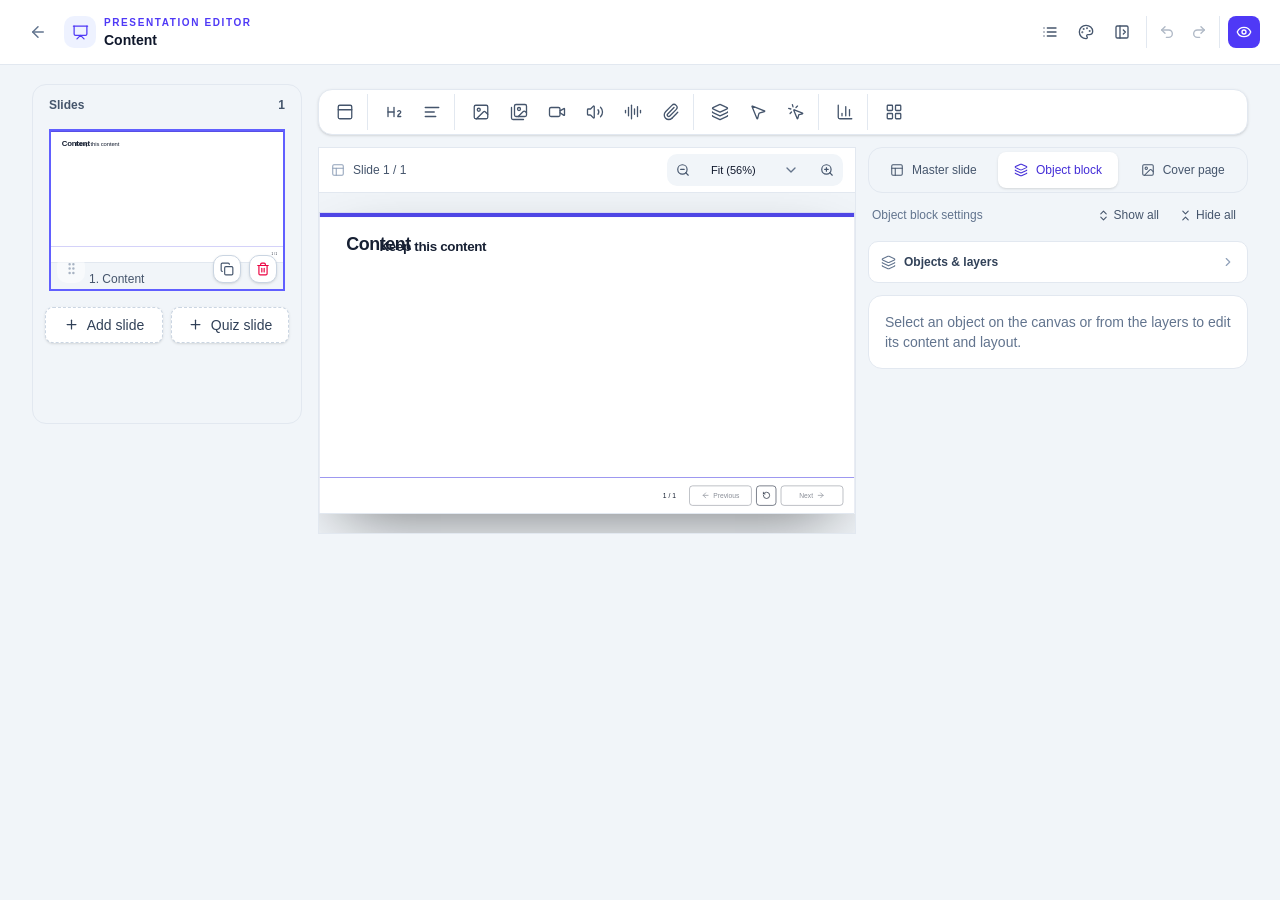
Scenario: presentation inspector tabs › switches settings panels and opens Object block when selecting a canvas object
Click the tab "Master slide" at (933, 170), box [873,152,994,188]
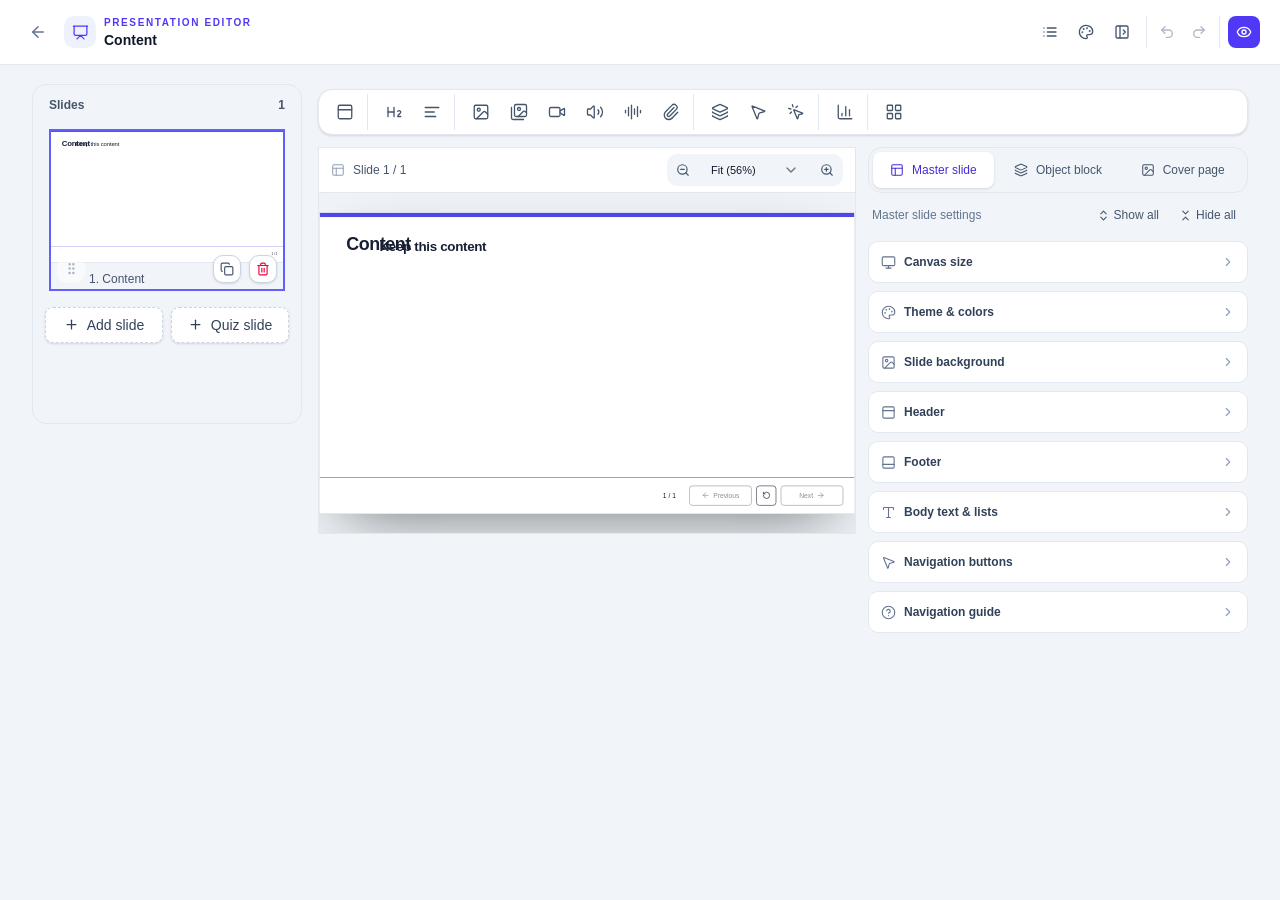
Press the mouse on the element showing "Keep this content" at (433, 247), box [380,239,486,254]
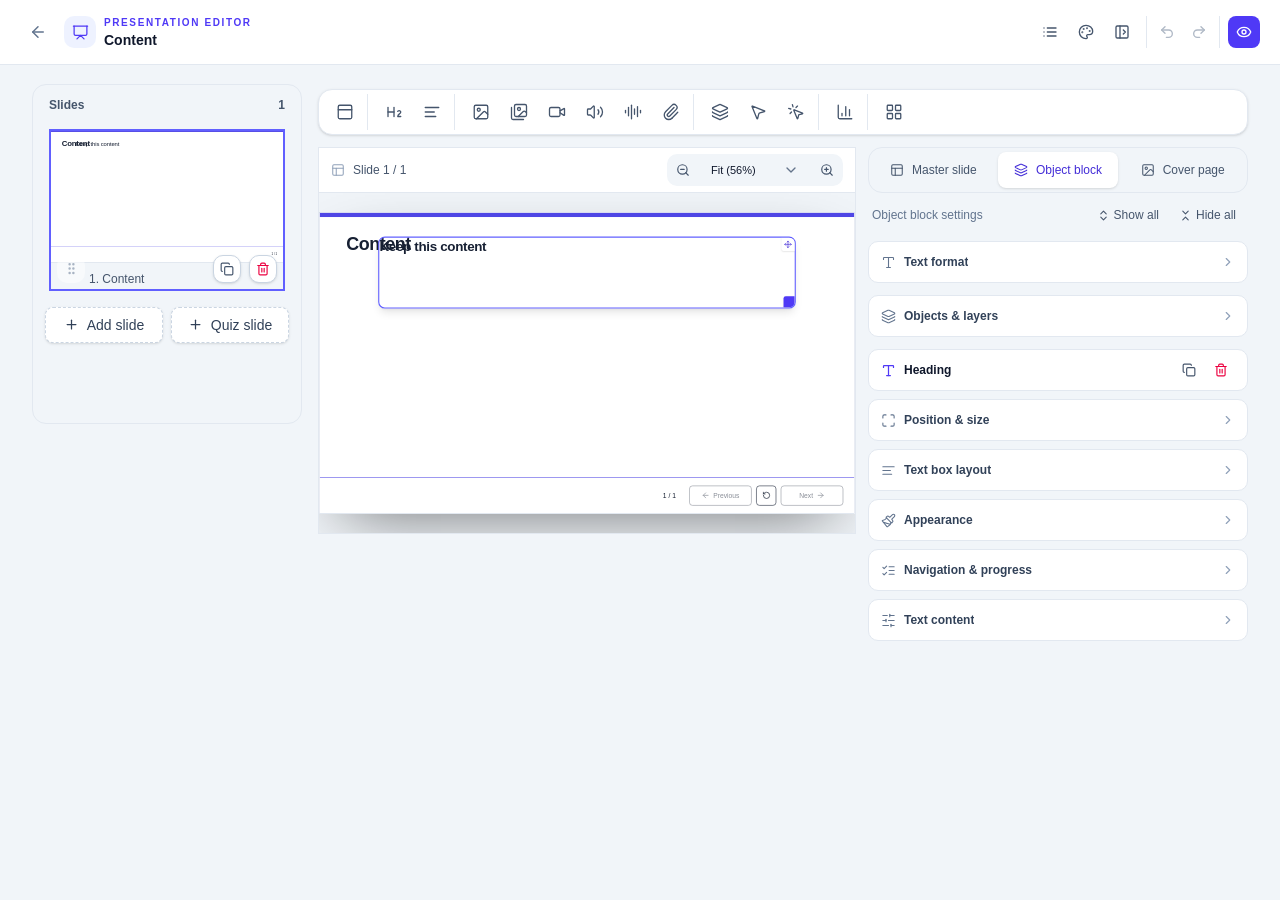
Check: the button named "Delete object" is shown, box [1207,356,1235,384]
Click the tab "Master slide" at (933, 170), box [873,152,994,188]
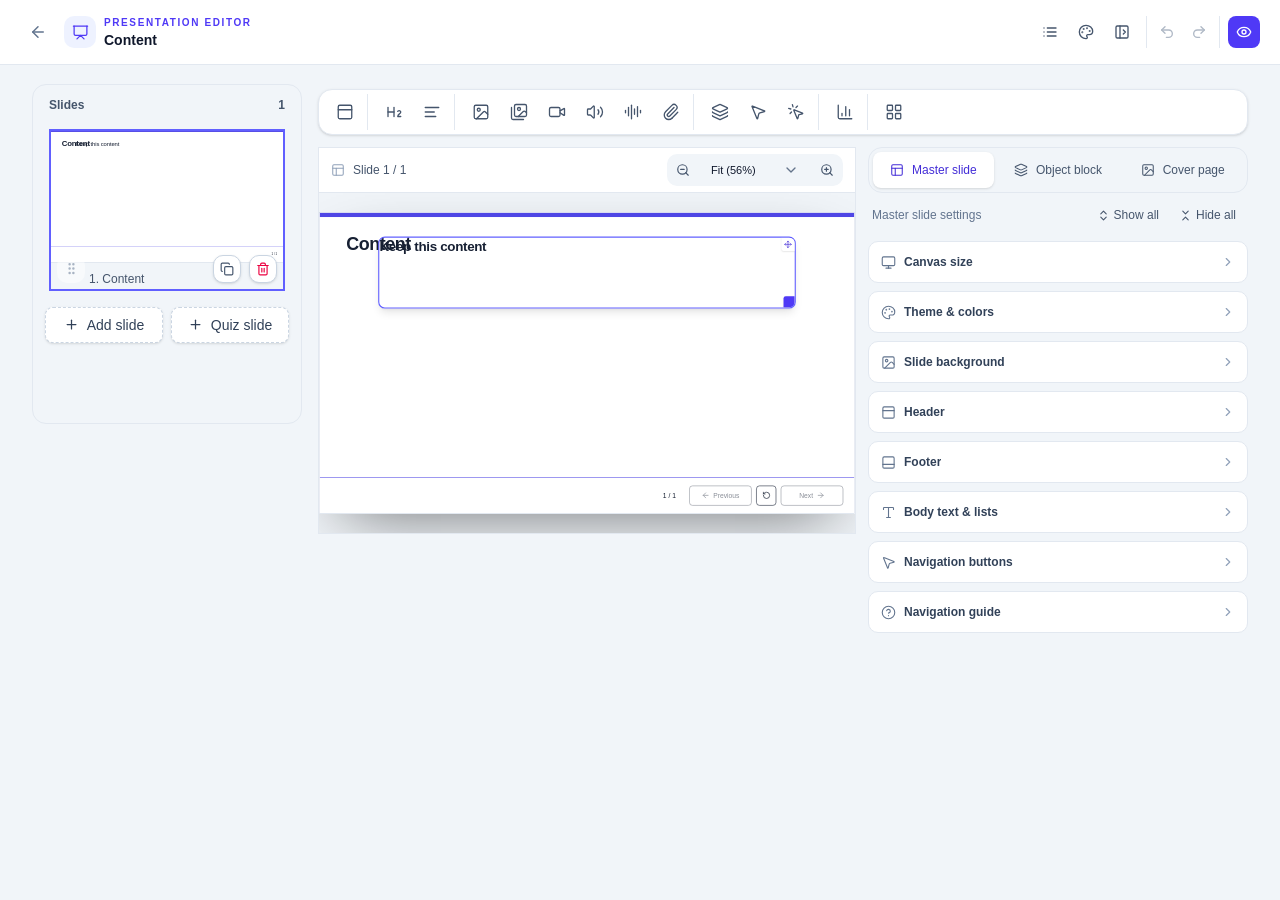
Click the tab "Object block" at (1058, 170), box [998,152,1118,188]
Wait 1000 ms
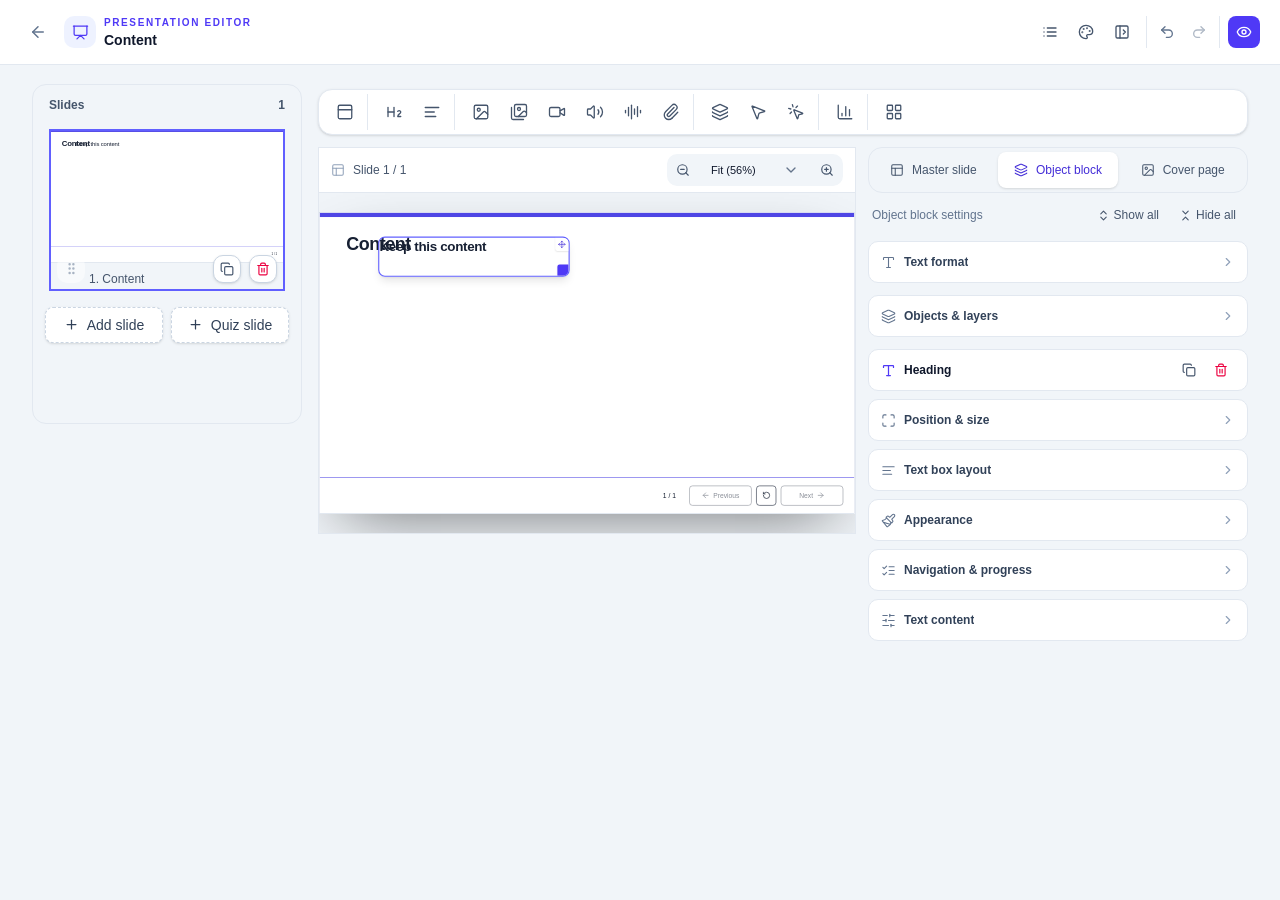
Check: the button named "Delete object" is shown, box [1207,356,1235,384]
